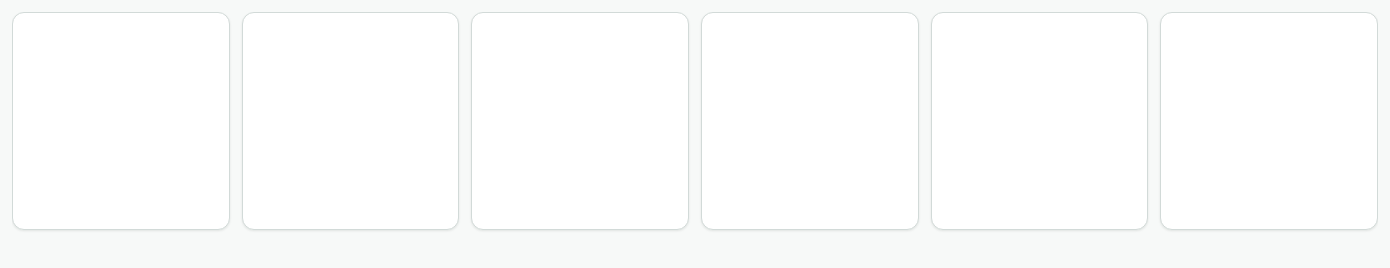
it: OtpInput › typing advances focus and completes after 6 digits
The image size is (1390, 268).
Click the field named "Digit 1" at (121, 121), box [12, 12, 230, 230]
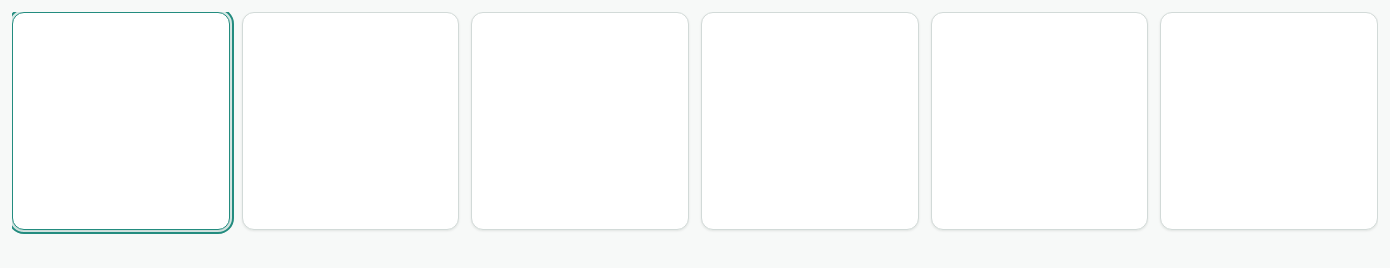
Type keys "12"
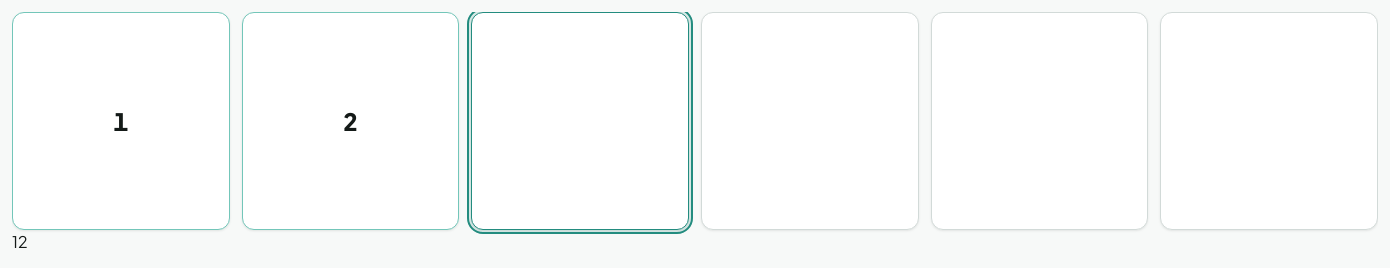
Type keys "3456"
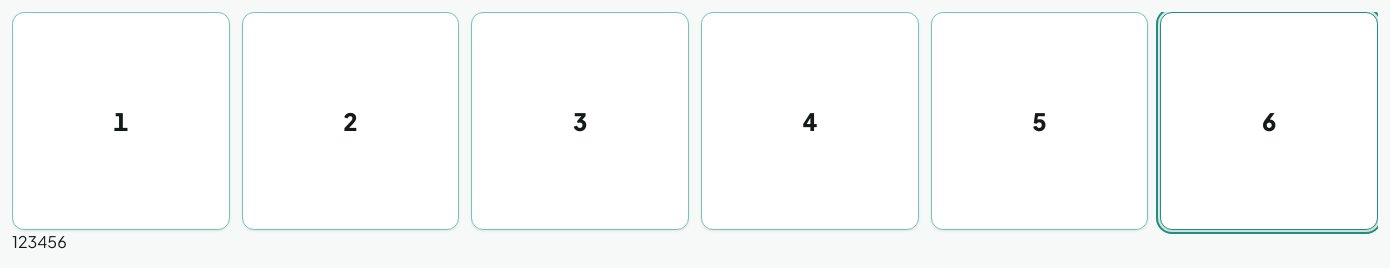
expect the text with test id "otp" reads "123456": met, box [12, 231, 67, 252]
